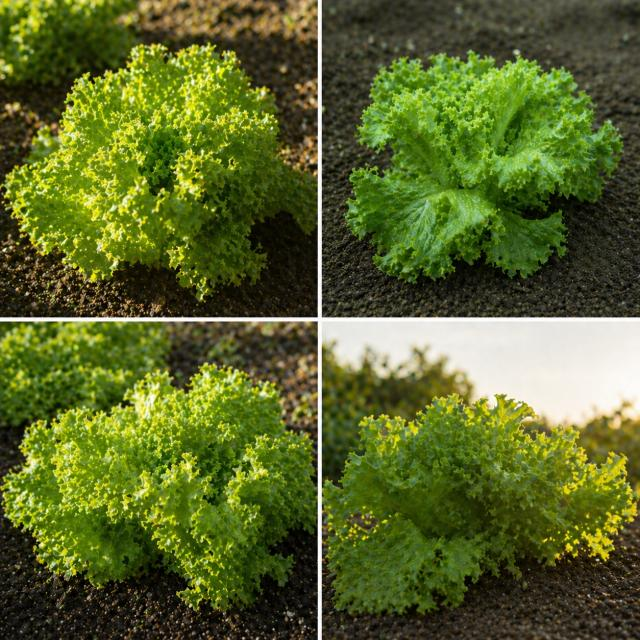lista_para_cosechar: (3, 44, 315, 299), (3, 364, 315, 611), (323, 395, 636, 614), (346, 52, 622, 282)
